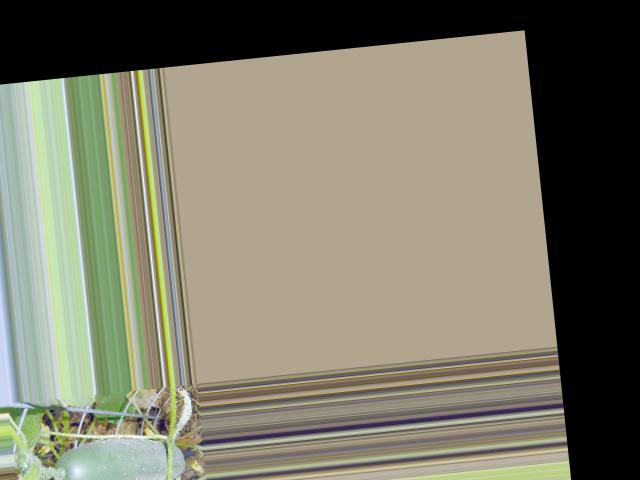cucumber: (51, 430, 186, 480)
